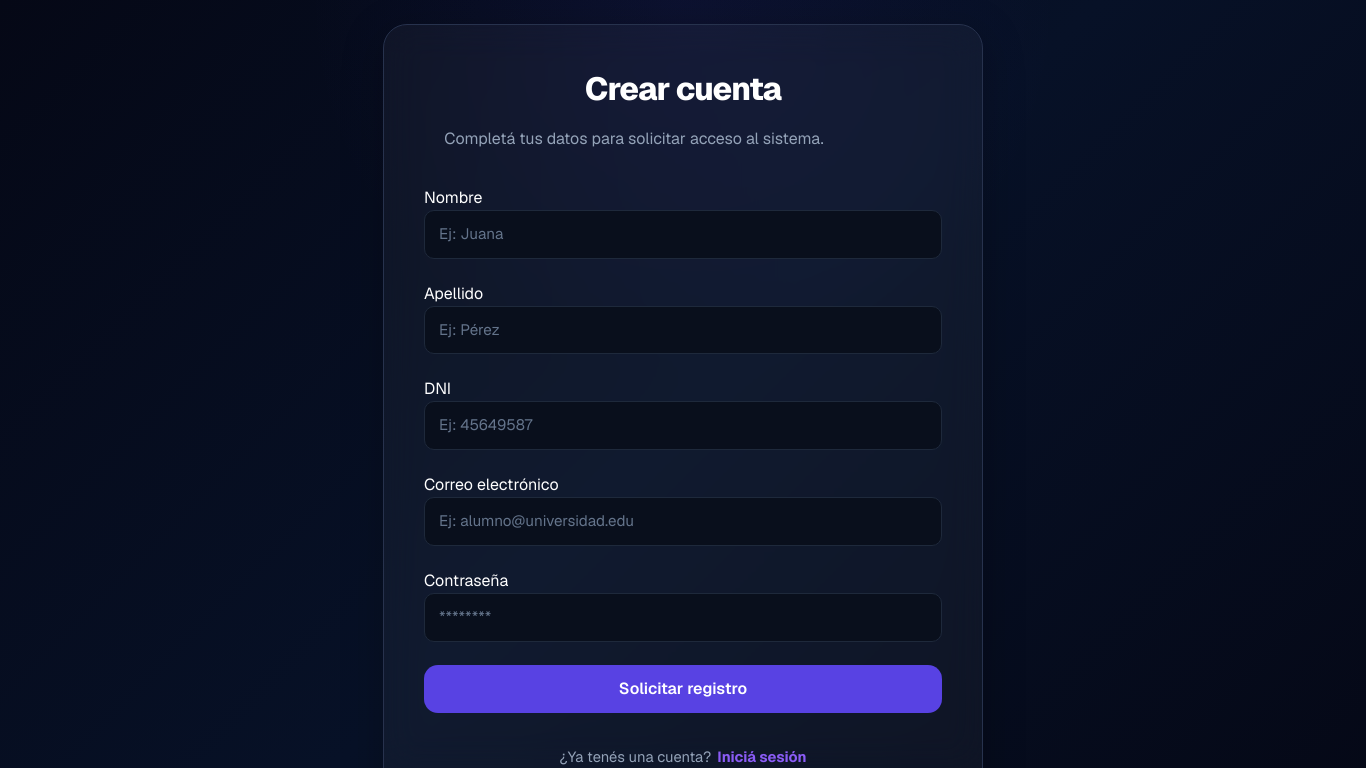
Scenario: Pagina registro › registra usuario correctamente y muestra mensaje de éxito
Type "Felipe" into the field with placeholder "Ej: Juana" at (683, 234), box [424,210,942,259]
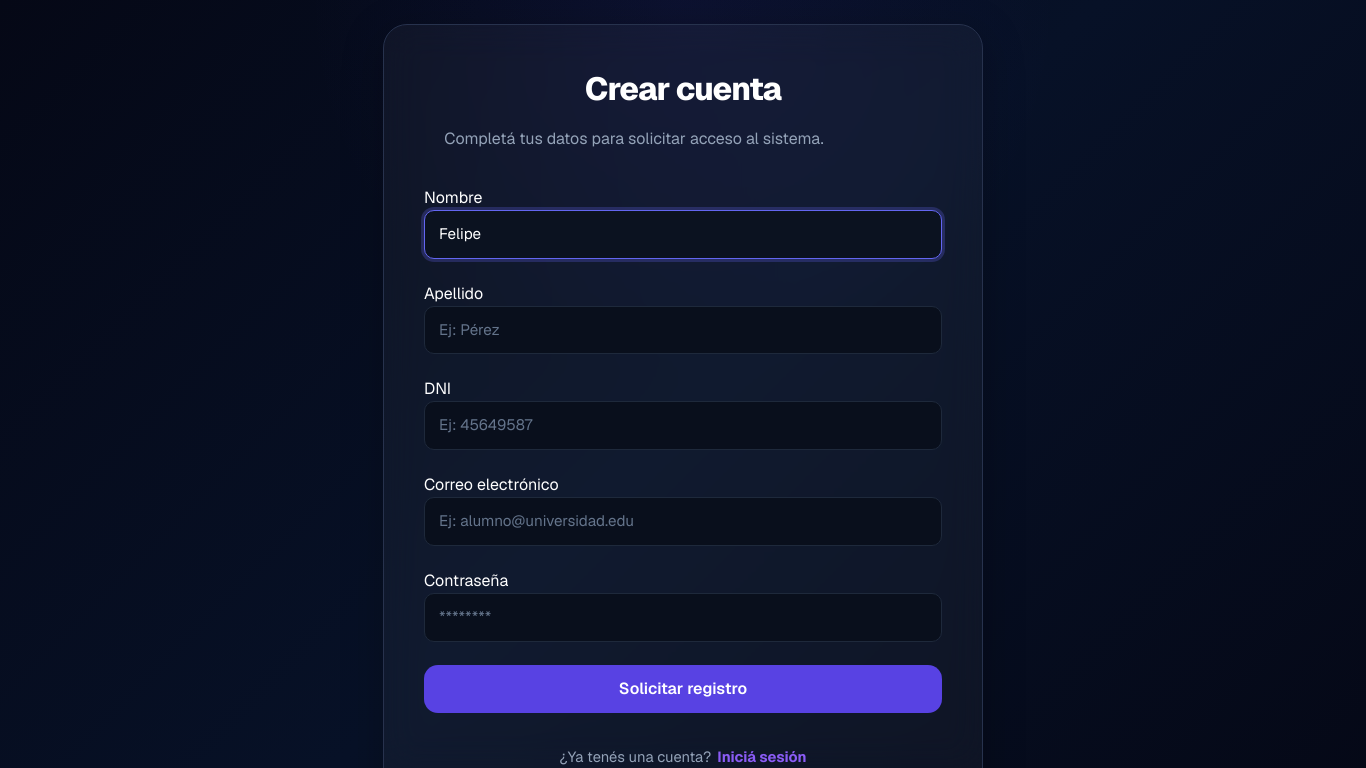
Type "Gomez" into the field with placeholder "Ej: Pérez" at (683, 330), box [424,306,942,354]
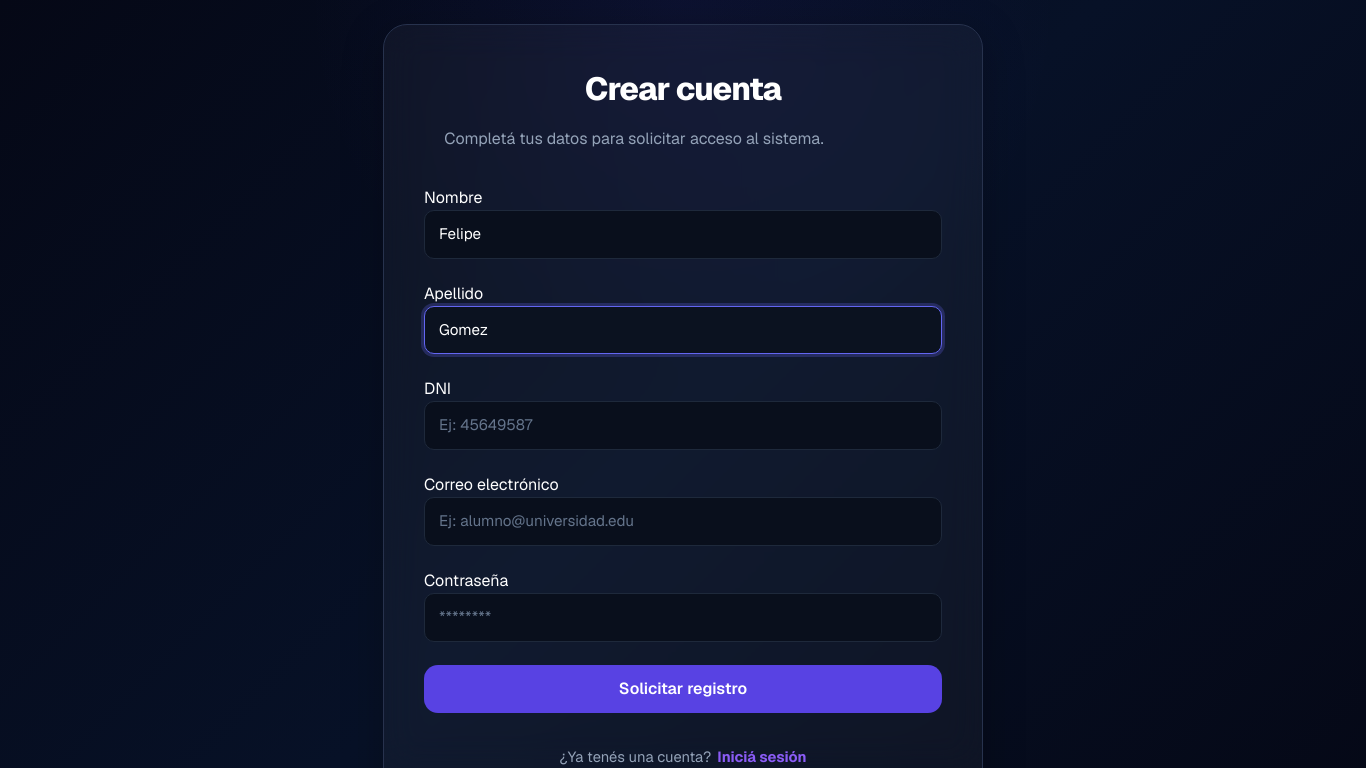
Type "39888777" into the number field with placeholder "Ej: 45649587" at (683, 426), box [424,401,942,450]
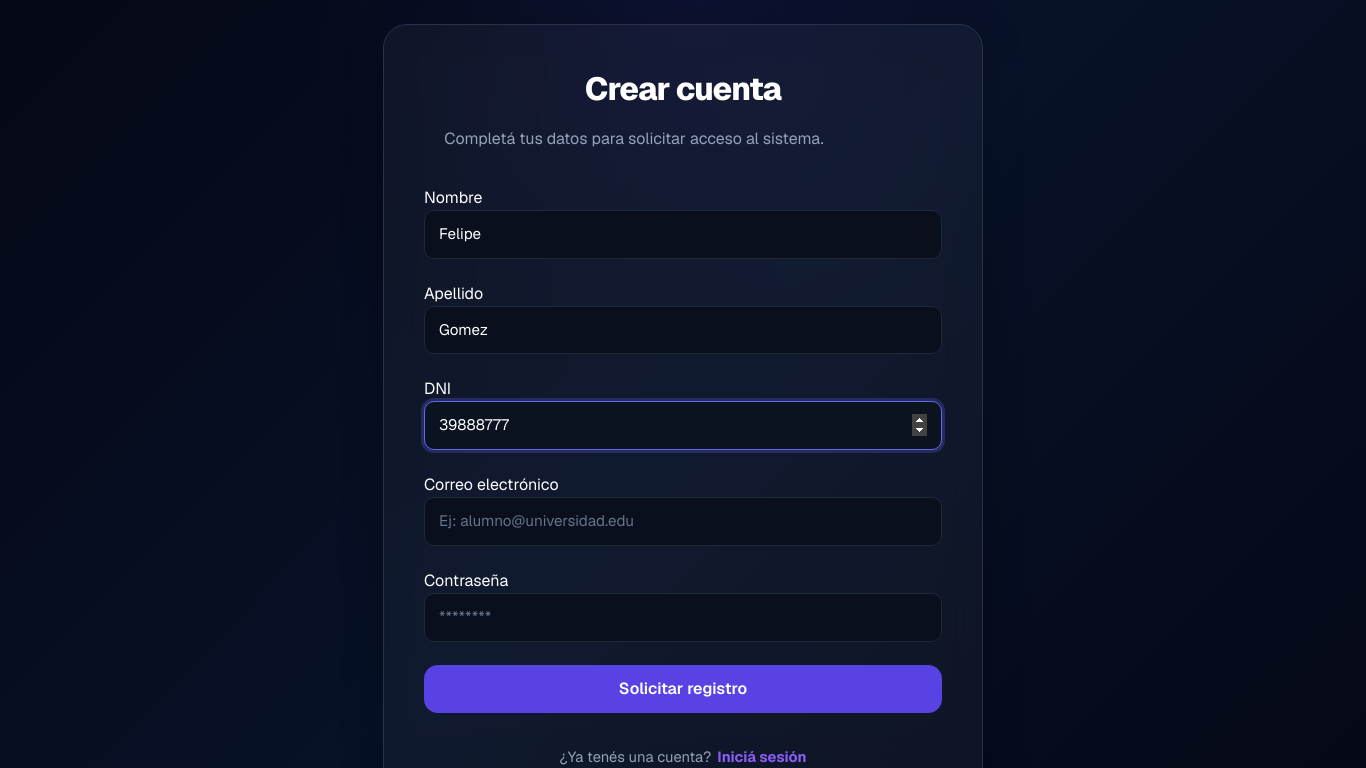
Type "felipe@gmail.com" into the field with placeholder "Ej: alumno@universidad.edu" at (683, 522), box [424,497,942,546]
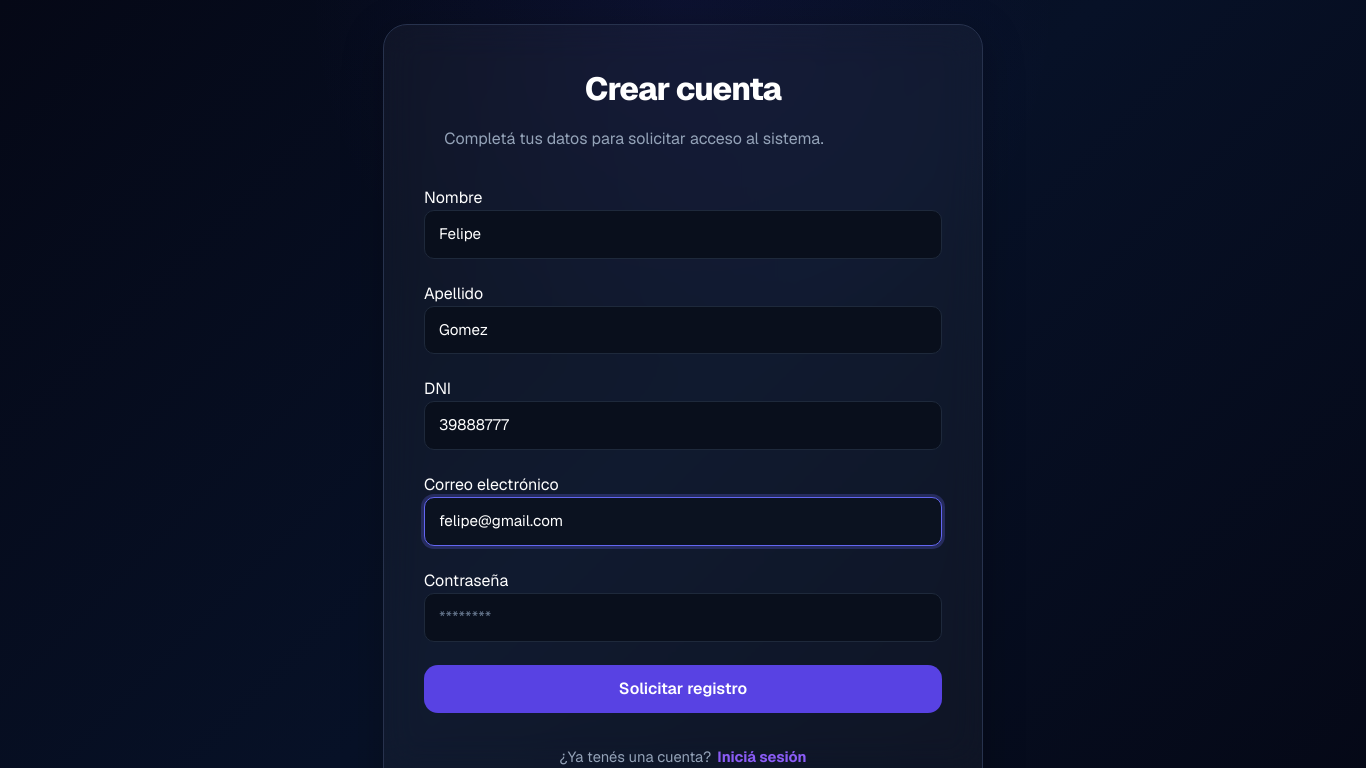
Type "123456" into the password field with placeholder "********" at (683, 617), box [424,593,942,642]
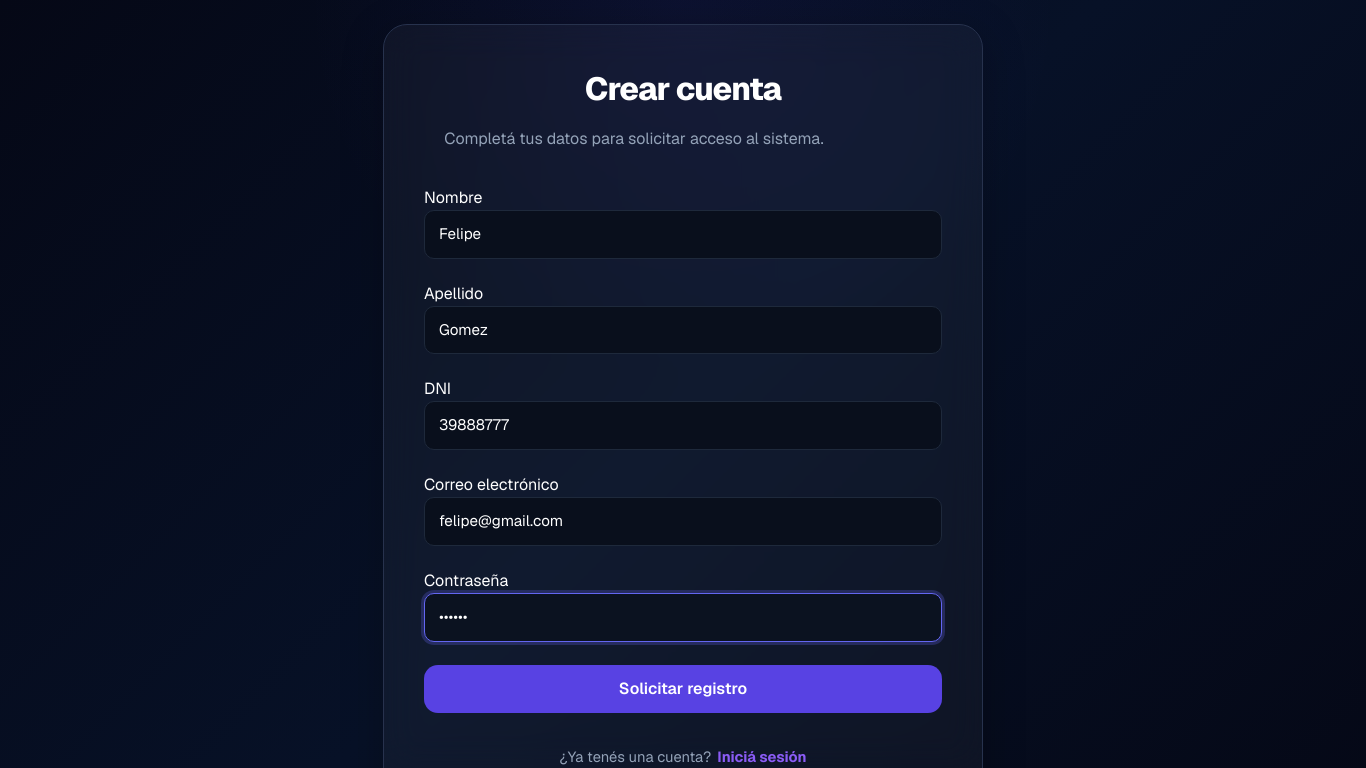
Click the button "Solicitar registro" at (683, 689), box [424,665,942,713]
Wait 7000 ms
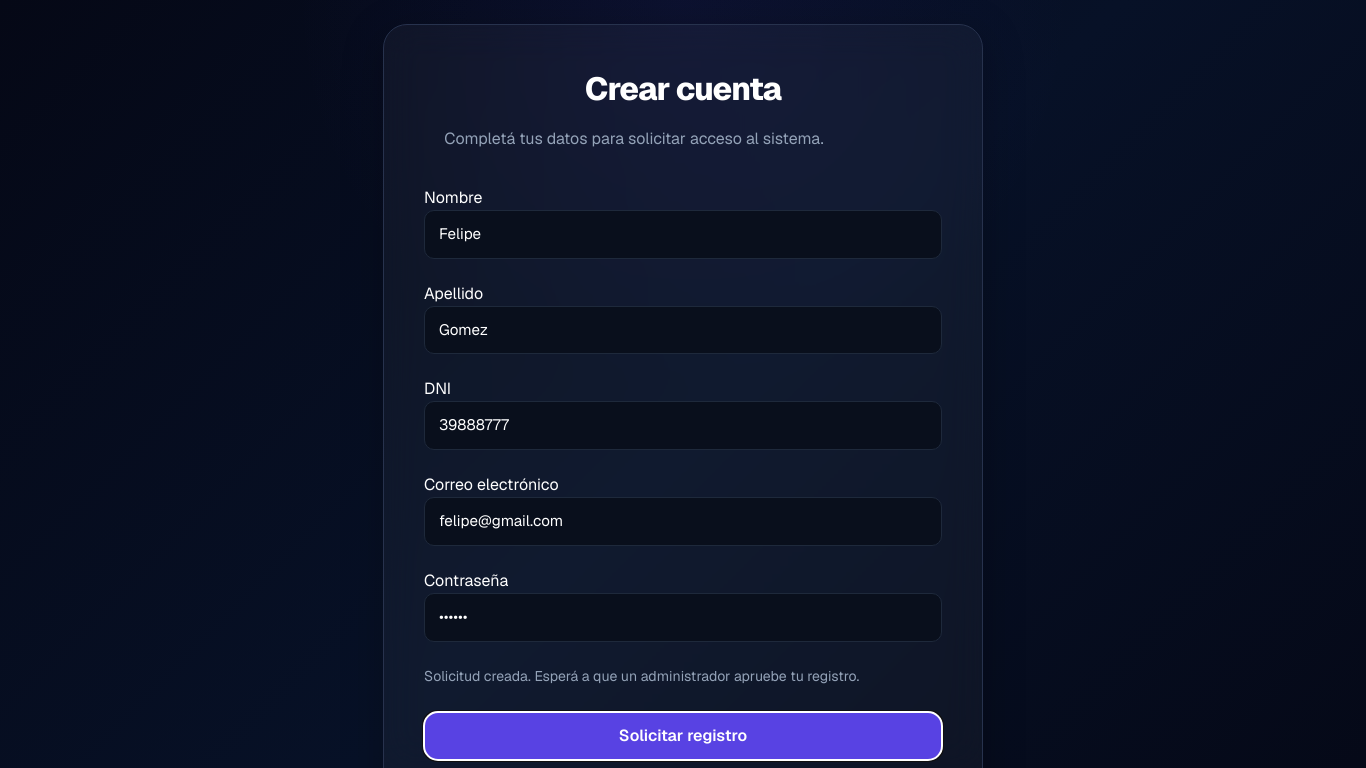
Result: the text "Solicitud creada. Esperá a que un administrador apruebe tu registro." is shown at [424,667,860,685]
